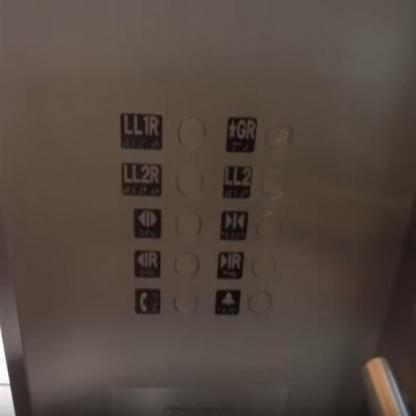GR: (263, 116, 294, 154)
IR: (214, 247, 246, 281), (131, 246, 162, 278)
LL2: (216, 160, 254, 201)
alarm: (212, 288, 242, 316)
call: (132, 285, 163, 316)
close: (218, 206, 249, 242)
empty: (176, 162, 206, 199), (176, 114, 206, 150), (252, 207, 282, 243), (172, 206, 202, 238), (259, 164, 285, 199), (249, 249, 278, 280), (172, 249, 200, 279), (171, 287, 200, 315), (246, 289, 273, 317)
open: (130, 206, 163, 239)
sGR: (222, 112, 257, 155)
text_LL1R: (118, 109, 164, 149)
text_LL2R: (118, 158, 164, 196)
